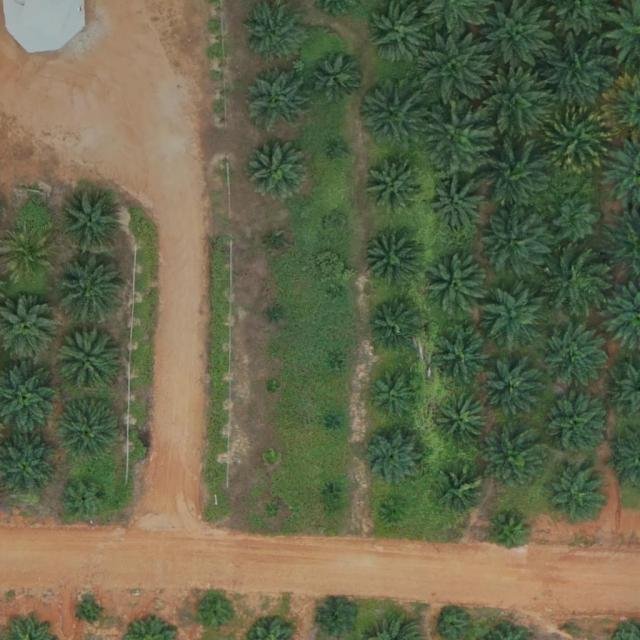Healthy: (421, 35, 491, 106), (547, 37, 618, 107), (478, 70, 548, 141), (480, 141, 550, 212), (482, 206, 552, 277), (423, 101, 493, 172), (359, 80, 429, 151), (359, 423, 429, 493), (58, 254, 128, 324), (245, 137, 308, 200), (484, 429, 547, 492), (59, 191, 122, 254), (547, 251, 610, 313), (482, 286, 544, 349), (425, 254, 487, 317), (430, 324, 492, 387), (247, 69, 309, 132), (543, 394, 605, 457), (546, 463, 608, 526), (59, 400, 122, 462), (370, 4, 432, 66), (543, 327, 605, 389), (56, 329, 118, 391), (368, 158, 423, 213), (364, 234, 419, 289), (368, 300, 423, 355), (436, 395, 491, 450), (486, 365, 540, 420), (431, 178, 485, 233), (310, 51, 364, 106), (553, 195, 600, 243), (441, 469, 488, 516)
Small: (370, 367, 425, 423), (63, 476, 110, 524), (490, 514, 529, 554), (317, 600, 356, 640), (198, 596, 237, 635), (325, 215, 349, 239), (384, 499, 408, 523), (81, 601, 104, 625), (327, 359, 343, 375), (266, 381, 282, 397), (331, 287, 347, 302), (269, 307, 284, 323), (264, 451, 279, 467), (265, 504, 281, 519), (334, 143, 349, 158), (269, 237, 284, 252), (328, 415, 343, 430), (324, 484, 339, 499)
Yellow: (542, 105, 612, 176)
